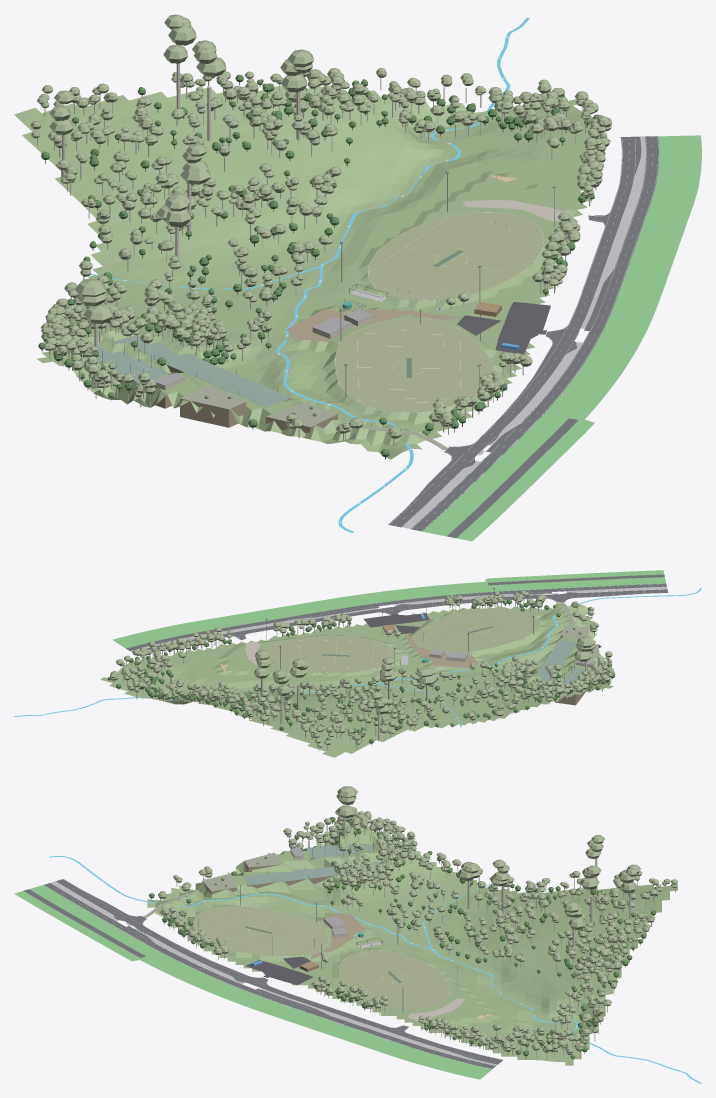
The model's file is KHFR_stage0_winter.glb.
3 renders of one model, top to bottom at view 1: azimuth 30°, elevation 25°; view 2: azimuth 150°, elevation 25°; view 3: azimuth 270°, elevation 25°, orthographic. The views are drawn at different scales.
Parts seen in each view (by area): view 1: Reserve terrain, Bushland forest (euc_can), Road reserve (far verge), Bush planting zones (euc_can), Existing Ground 1 (worn turf), Existing Ground 2 (worn turf), Swansea Rd NE-bound (surveyed both edges), Giant eucalypts (canopies), Swansea Rd SW-bound (2 lanes, smooth), Tennis precinct bush retained (euc_can), Bushland forest (wat_can), Median (separated) (+16 smaller); view 2: Reserve terrain, Bushland forest (euc_can), Road reserve (far verge), Bush planting zones (euc_can), Existing Ground 1 (worn turf), Existing Ground 2 (worn turf), Giant eucalypts (canopies), Swansea Rd SW-bound (2 lanes, smooth), Tennis precinct bush retained (euc_can), Swansea Rd NE-bound (surveyed both edges), Bushland forest (wat_can), Bush planting zones (wat_can) (+9 smaller); view 3: Reserve terrain, Bushland forest (euc_can), Road reserve (far verge), Bush planting zones (euc_can), Existing Ground 1 (worn turf), Existing Ground 2 (worn turf), Swansea Rd NE-bound (surveyed both edges), Tennis precinct bush retained (euc_can), Giant eucalypts (canopies), Swansea Rd SW-bound (2 lanes, smooth), Bushland forest (wat_can), Median (separated) (+11 smaller).
Boxes of the visible parts, x1,y1,x2,y2 form: Reserve terrain: (14,85,611,459); Bushland forest (euc_can): (30,71,401,438); Road reserve (far verge): (422,135,701,541); Bush planting zones (euc_can): (202,68,611,426); Existing Ground 1 (worn turf): (335,318,493,412); Existing Ground 2 (worn turf): (368,212,543,300); Swansea Rd NE-bound (surveyed both edges): (388,136,641,527); Giant eucalypts (canopies): (49,14,313,323); Swansea Rd SW-bound (2 lanes, smooth): (410,136,658,531); Tennis precinct bush retained (euc_can): (41,297,233,388); Bushland forest (wat_can): (41,83,389,456); Median (separated): (402,136,645,528); Reserve terrain: (100,603,613,757); Bushland forest (euc_can): (199,601,613,747); Road reserve (far verge): (112,570,666,648); Bush planting zones (euc_can): (109,590,546,717); Existing Ground 1 (worn turf): (414,608,539,652); Existing Ground 2 (worn turf): (266,636,397,672); Giant eucalypts (canopies): (254,636,595,713); Swansea Rd SW-bound (2 lanes, smooth): (126,583,666,650); Tennis precinct bush retained (euc_can): (496,659,615,701); Swansea Rd NE-bound (surveyed both edges): (132,589,667,655); Bushland forest (wat_can): (226,607,604,743); Bush planting zones (wat_can): (107,599,536,717); Reserve terrain: (147,823,677,1065); Bushland forest (euc_can): (158,815,678,978); Road reserve (far verge): (14,885,492,1079); Bush planting zones (euc_can): (160,907,650,1054); Existing Ground 1 (worn turf): (193,906,328,955); Existing Ground 2 (worn turf): (339,950,450,1009); Swansea Rd NE-bound (surveyed both edges): (56,879,502,1064); Tennis precinct bush retained (euc_can): (296,807,417,886); Giant eucalypts (canopies): (336,786,640,930); Swansea Rd SW-bound (2 lanes, smooth): (44,883,495,1068); Bushland forest (wat_can): (149,818,656,977); Median (separated): (51,881,497,1065).
Bounding box in the file's own units: 495 × 86.34 × 599.
